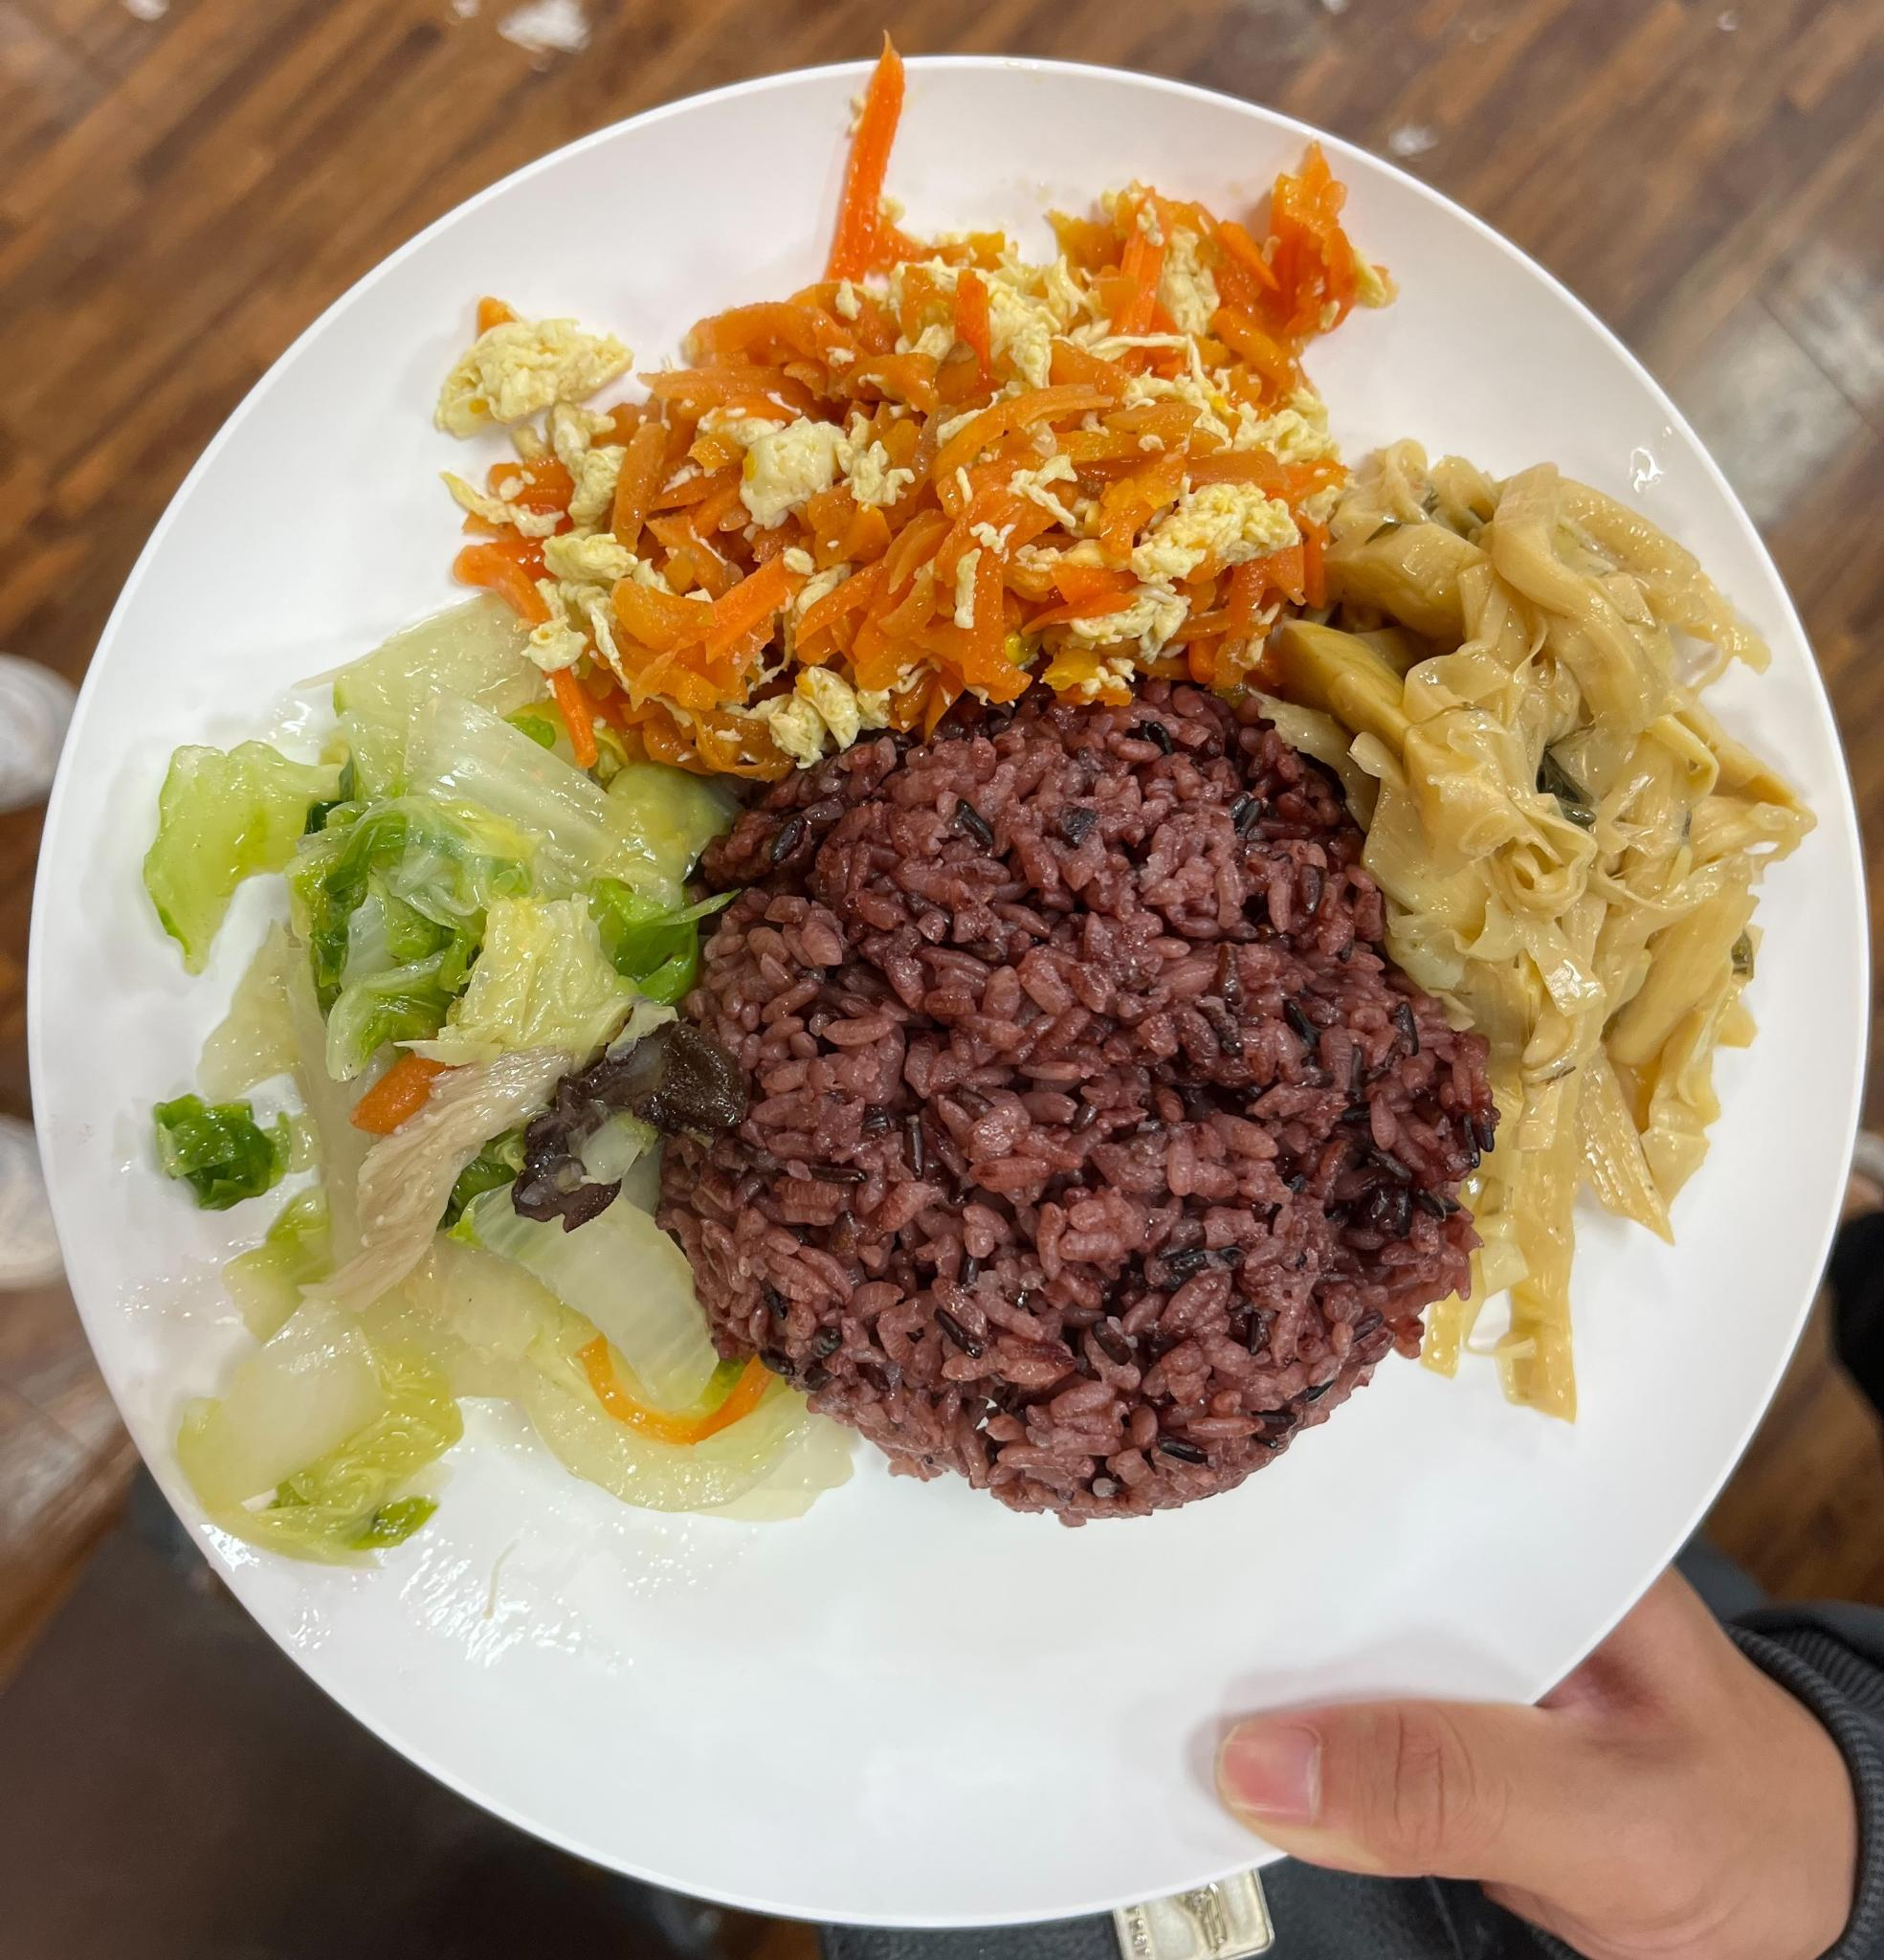big fried chicken leg: (31, 38, 1863, 1951)
braised fish: (680, 688, 1459, 1503)
braised fish fillet: (114, 588, 766, 1552), (425, 189, 1399, 751), (1310, 450, 1758, 1328)
